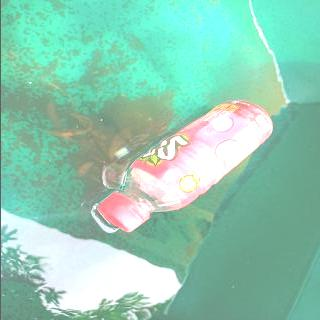bottle: (92, 99, 274, 233)
